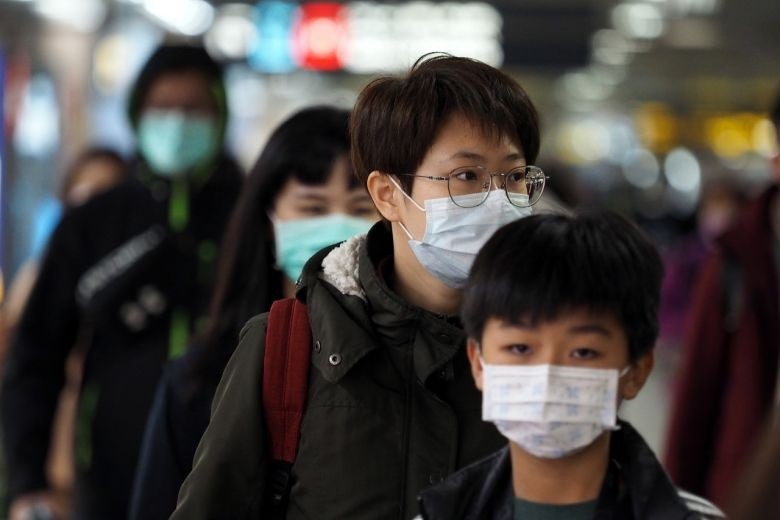face_with_mask: (370, 60, 547, 292), (470, 252, 654, 454), (260, 111, 363, 285)
